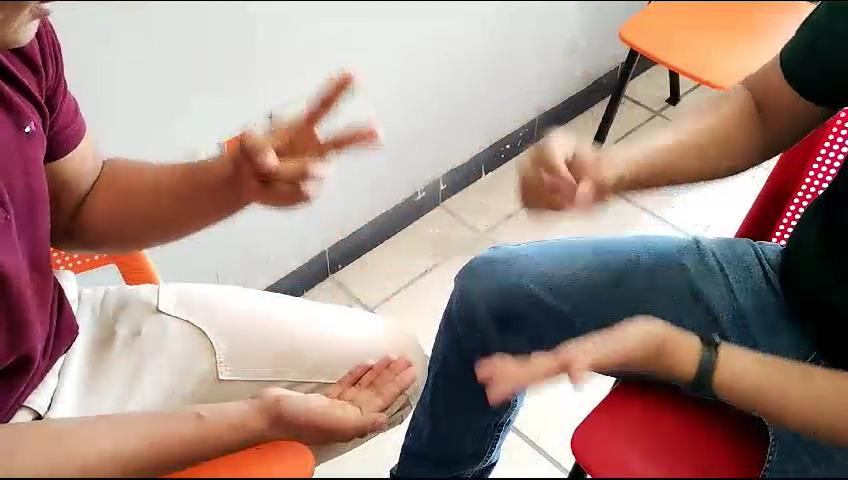Scissor: (207, 53, 388, 217)
Stone: (500, 103, 629, 230)
